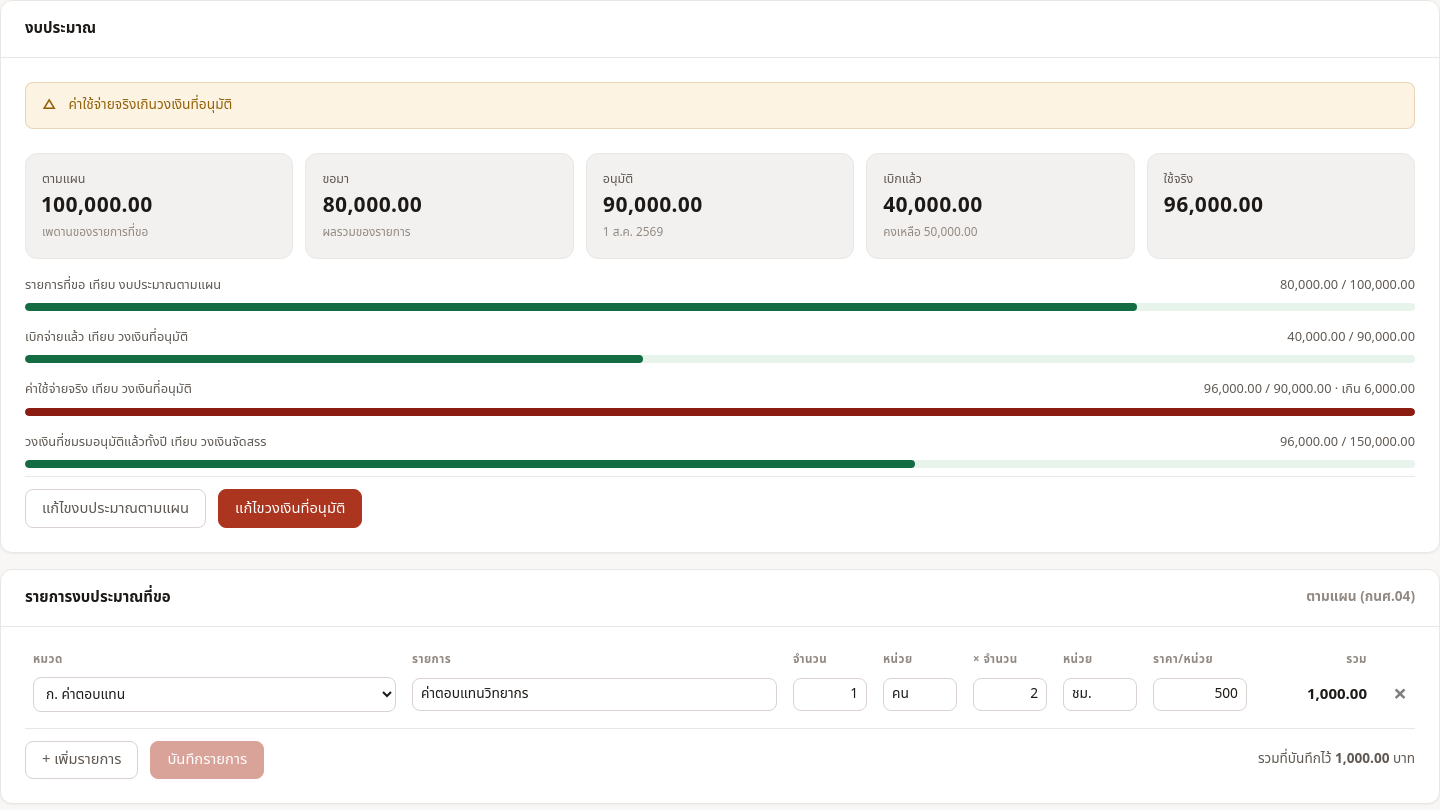
Test: disables save until a line is actually dirty, and saves the mapped rows on click
This screenshot has width=1440, height=810.
Expected: the button "บันทึกรายการ" is disabled, [150, 741, 264, 779]
Type " (แก้ไข)" into the 1st field showing "ค่าตอบแทนวิทยากร". click: (595, 694)
box: [412, 678, 777, 711]
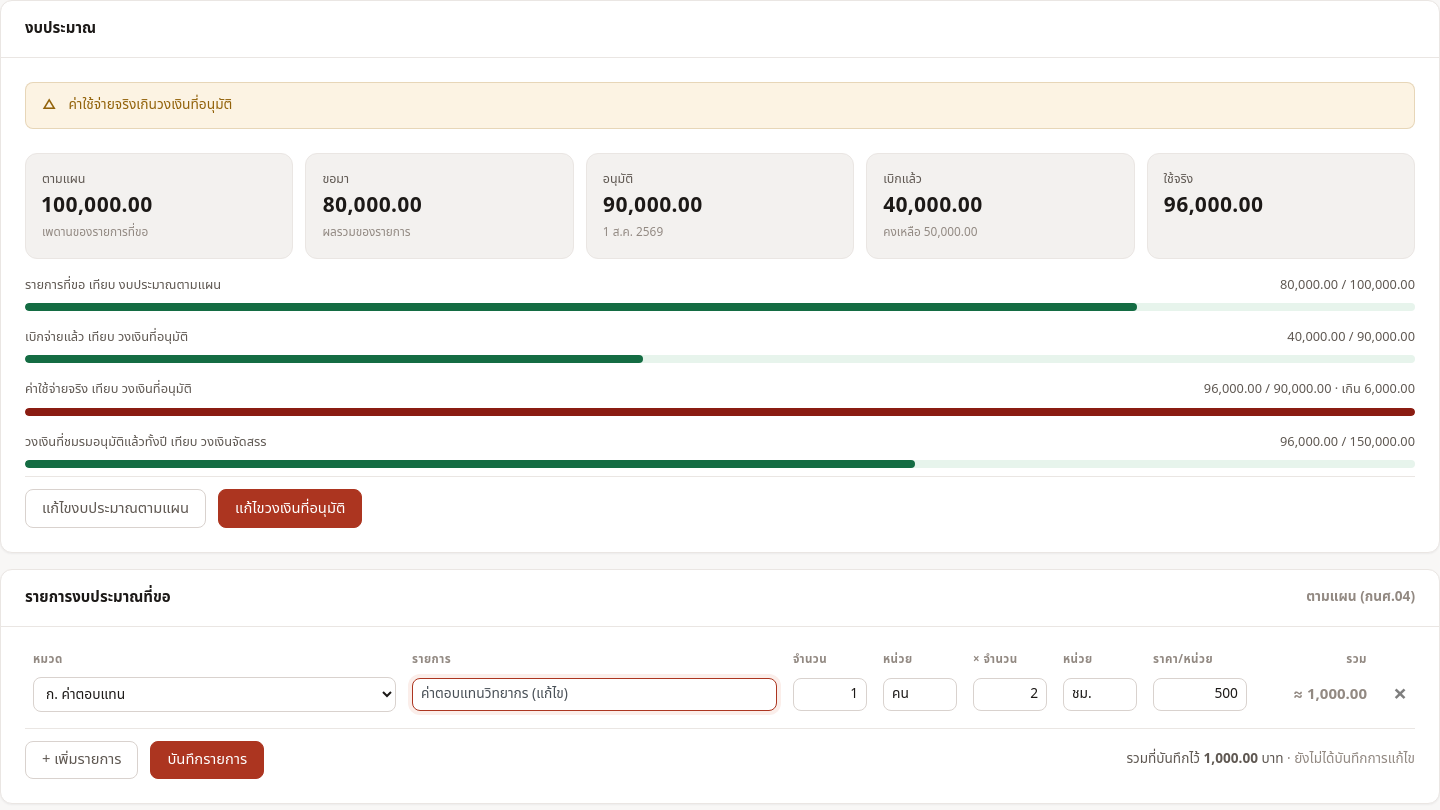
Expected: the button "บันทึกรายการ" is enabled
Click the button "บันทึกรายการ". click: (207, 760)
box: [150, 741, 264, 779]
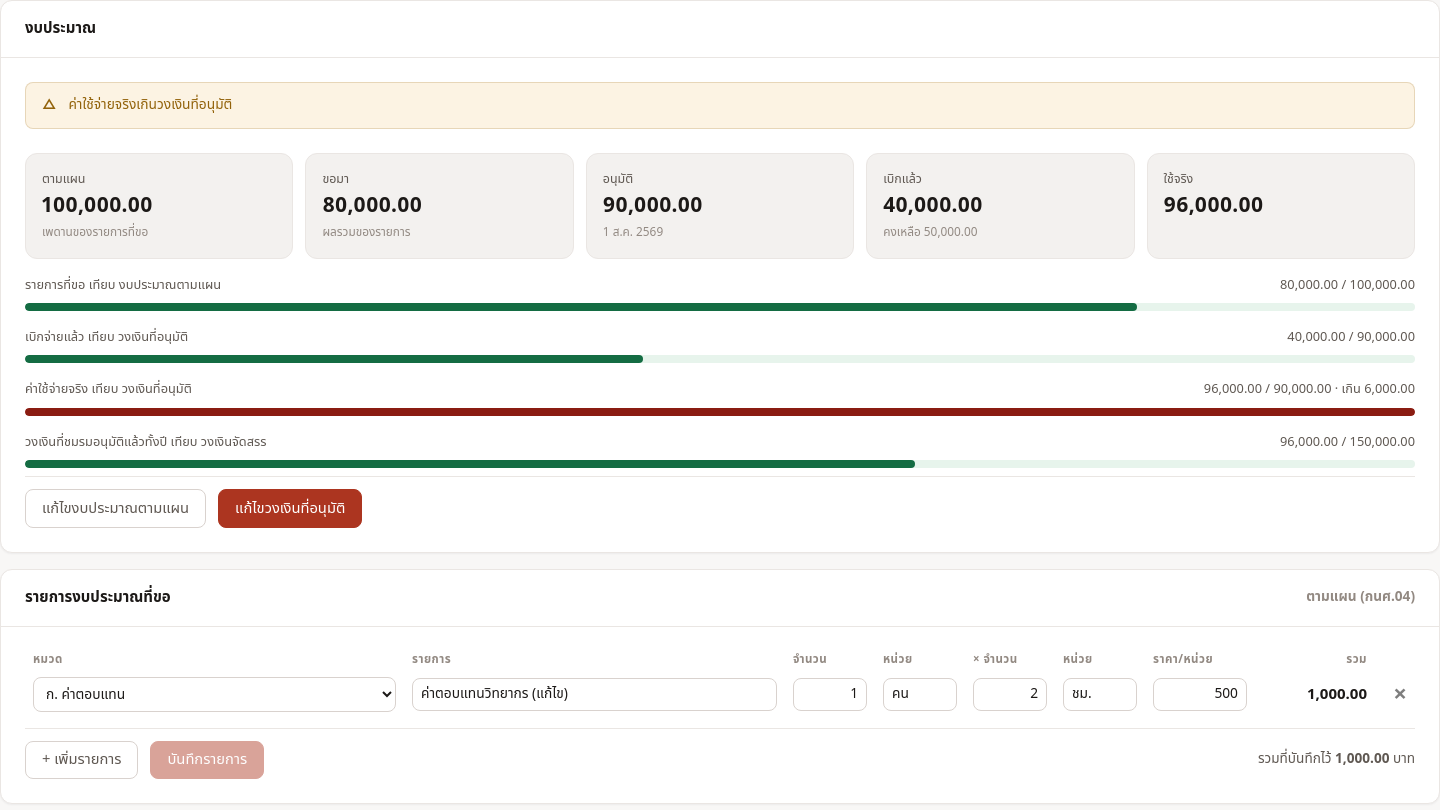
Expected: the button "บันทึกรายการ" is disabled, [150, 741, 264, 779]
